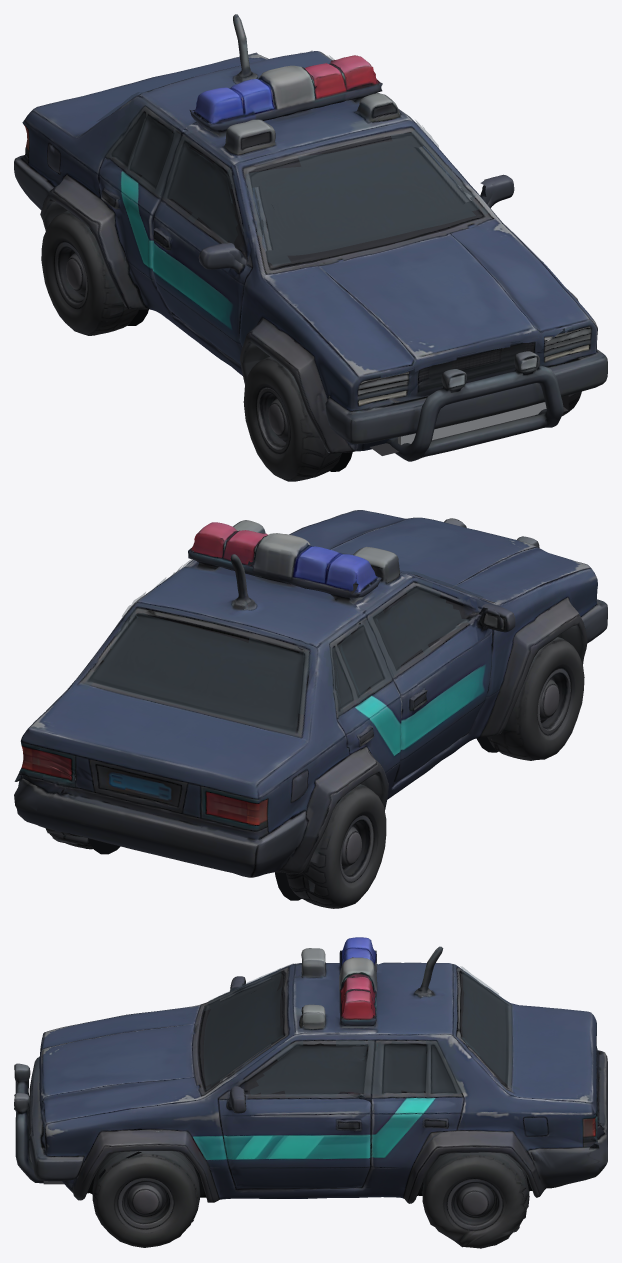
3 views of the same model, one above another, from view 1: azimuth 30°, elevation 25°; view 2: azimuth 150°, elevation 25°; view 3: azimuth 270°, elevation 25° (orthographic). The views are drawn at different scales.
Visible parts, largest first — view 1: Carroceria, Cofre, Cristal_Parabrisas, Puerta_D, Rueda_DD, Rueda_TD, Cristal_Puerta_D, Cristal_Laterales, Puerta_I, Motor; view 2: Carroceria, Cristal_Medallon, Puerta_D, Cofre, Rueda_TD, Rueda_DD, Cristal_Puerta_D, Cristal_Laterales, Interior; view 3: Carroceria, Puerta_I, Cofre, Rueda_DI, Rueda_TI, Cristal_Parabrisas, Cristal_Puerta_I, Cristal_Laterales, Cristal_Medallon, Puerta_D.
Boxes of the visible parts, left/top/right/bottom form: Carroceria: left=14, top=14, right=607, bottom=461; Cofre: left=285, top=224, right=573, bottom=409; Cristal_Parabrisas: left=246, top=129, right=488, bottom=266; Puerta_D: left=152, top=147, right=340, bottom=364; Rueda_DD: left=243, top=356, right=341, bottom=481; Rueda_TD: left=41, top=211, right=138, bottom=335; Cristal_Puerta_D: left=155, top=134, right=237, bottom=247; Cristal_Laterales: left=101, top=55, right=334, bottom=192; Puerta_I: left=398, top=142, right=514, bottom=215; Motor: left=370, top=395, right=568, bottom=455; Carroceria: left=14, top=510, right=607, bottom=877; Cristal_Medallon: left=81, top=608, right=312, bottom=734; Puerta_D: left=374, top=579, right=515, bottom=789; Cofre: left=307, top=513, right=572, bottom=597; Rueda_TD: left=286, top=784, right=386, bottom=908; Rueda_DD: left=487, top=637, right=584, bottom=760; Cristal_Puerta_D: left=369, top=579, right=469, bottom=678; Cristal_Laterales: left=122, top=572, right=390, bottom=719; Interior: left=88, top=623, right=498, bottom=900; Carroceria: left=14, top=937, right=607, bottom=1203; Puerta_I: left=220, top=1041, right=371, bottom=1188; Cofre: left=38, top=1011, right=199, bottom=1144; Rueda_DI: left=91, top=1151, right=200, bottom=1247; Rueda_TI: left=421, top=1152, right=531, bottom=1248; Cristal_Parabrisas: left=204, top=968, right=283, bottom=1090; Cristal_Puerta_I: left=250, top=1039, right=380, bottom=1096; Cristal_Laterales: left=374, top=1040, right=466, bottom=1096; Cristal_Medallon: left=460, top=966, right=519, bottom=1089; Puerta_D: left=220, top=973, right=273, bottom=1027.
Size of the model in its own units: 2.39 by 2.22 by 4.8.
Materials: 5 (1 with a texture image).
